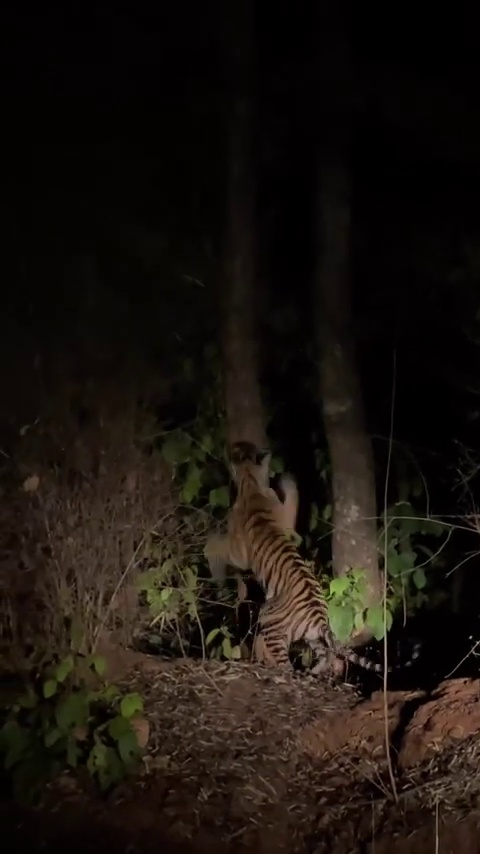Tiger: (203, 435, 423, 682)
